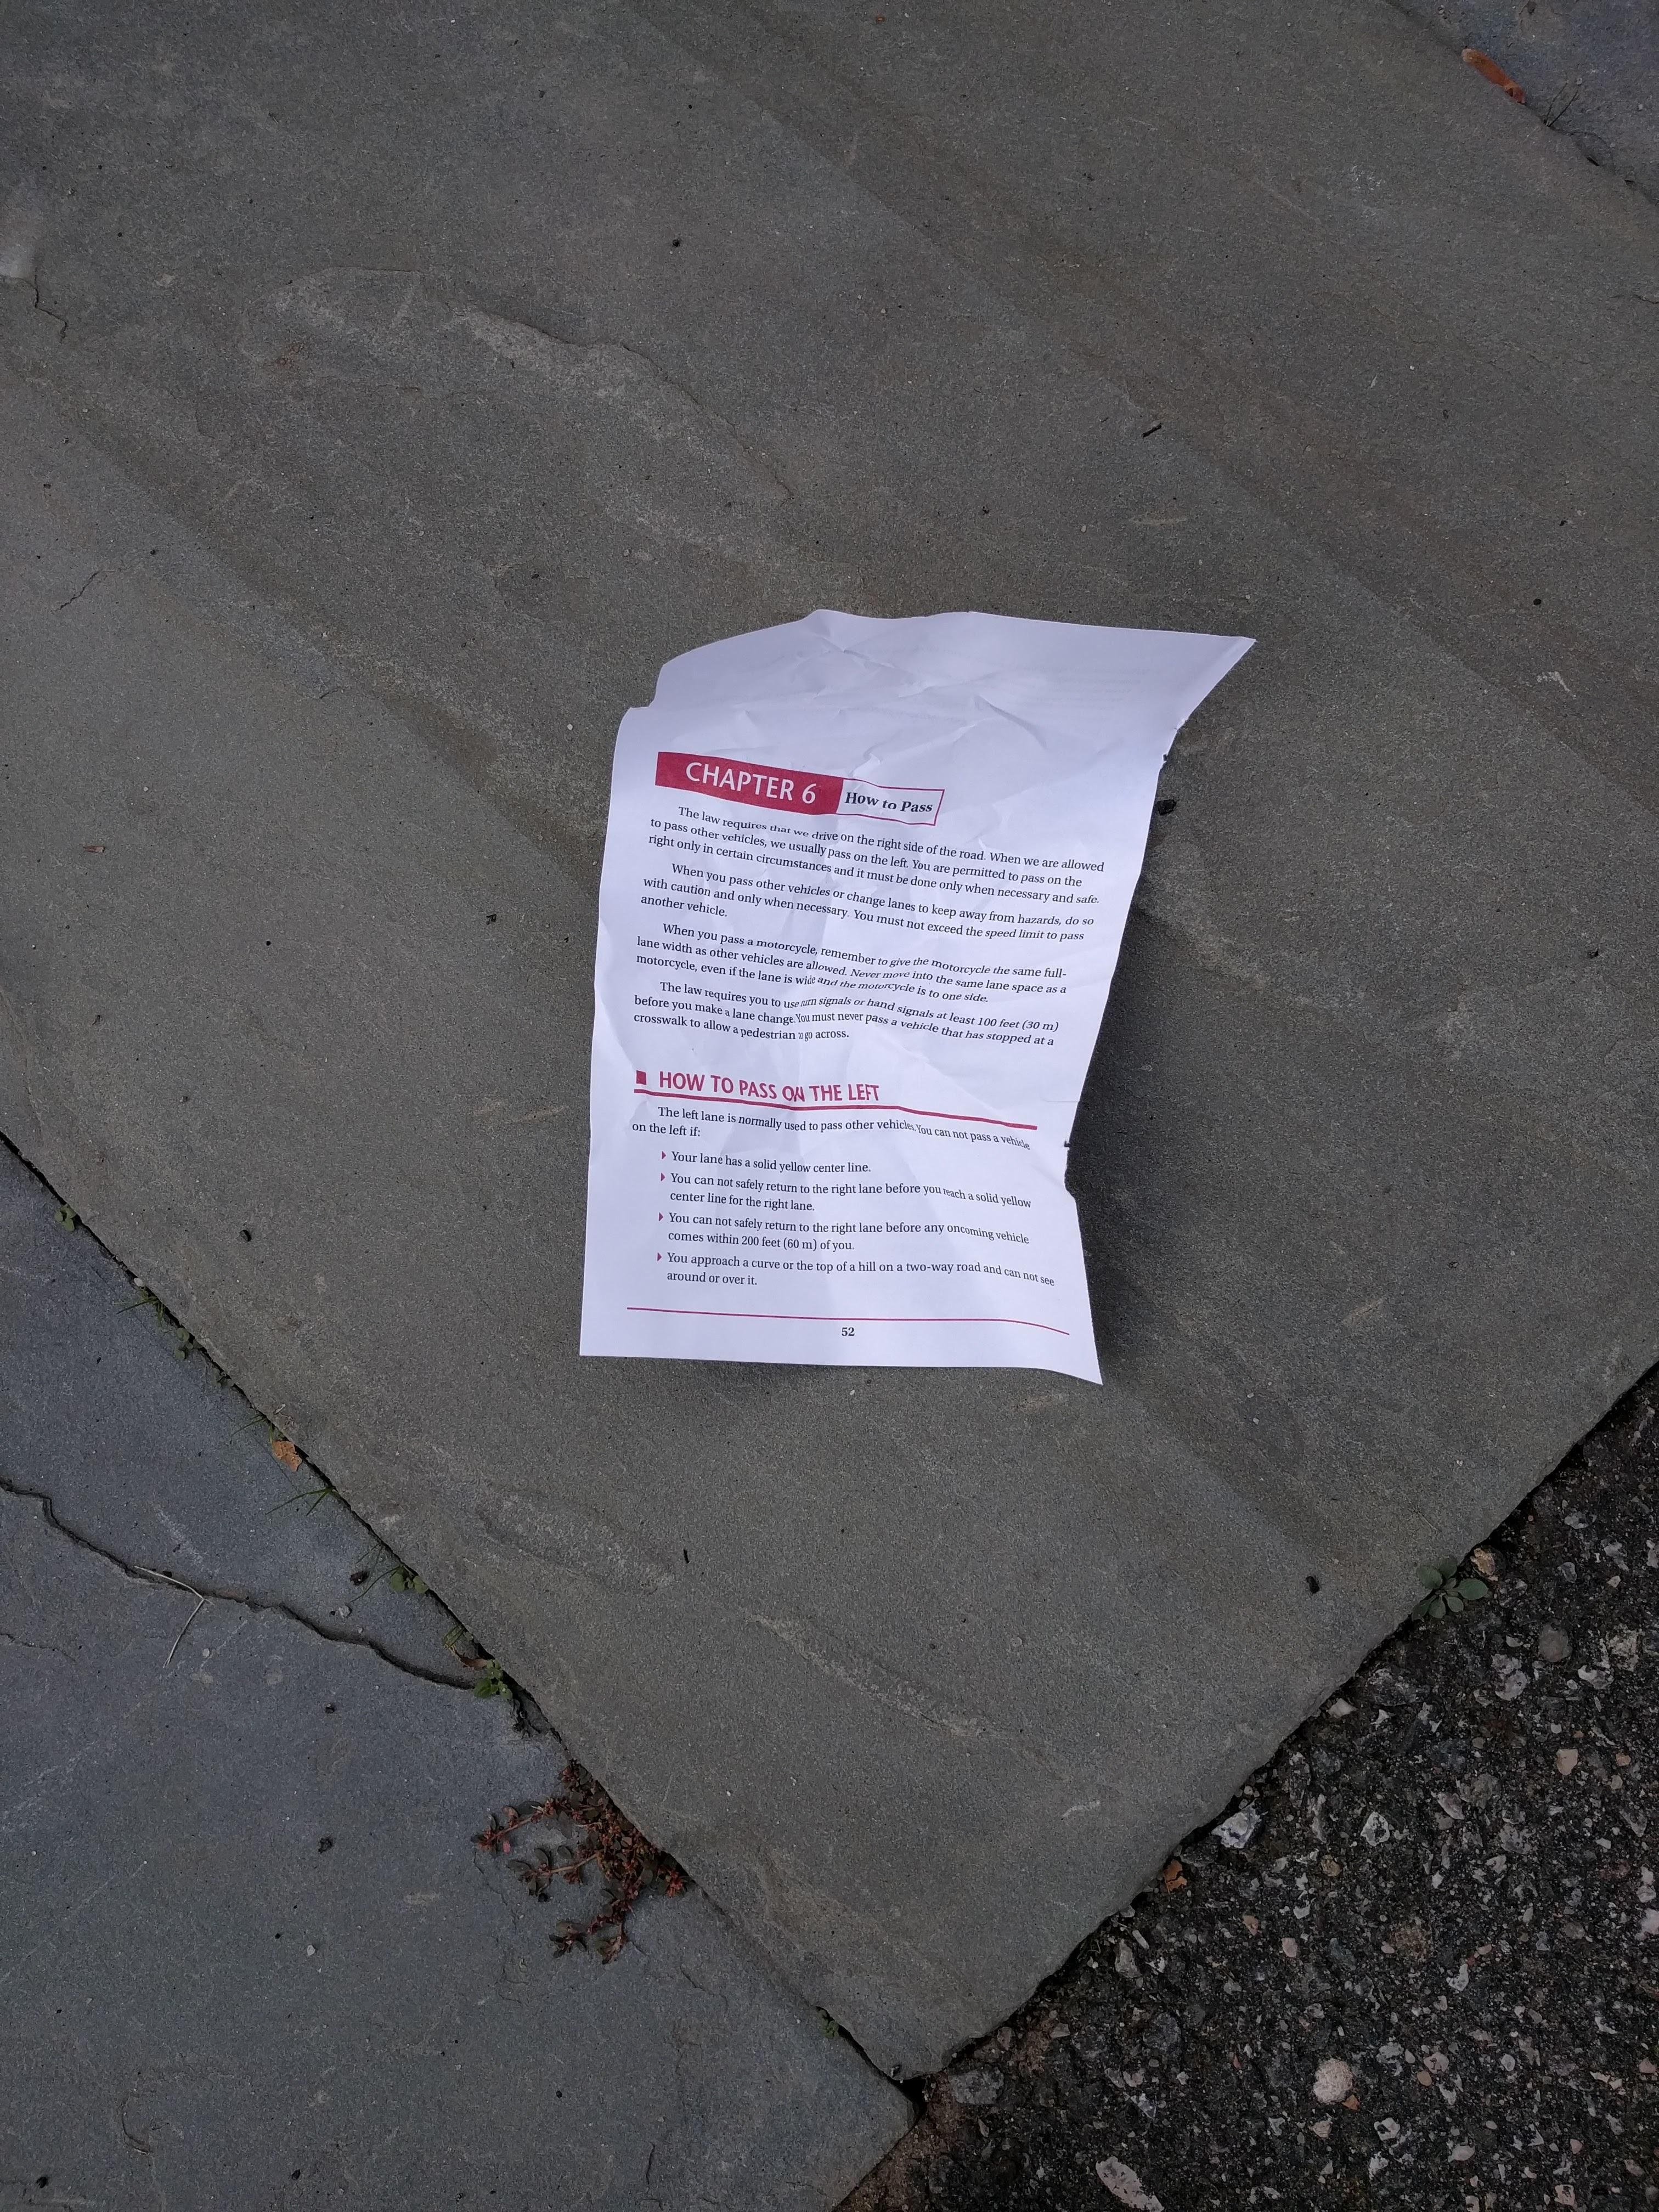paper: (429, 463, 1283, 1674)
